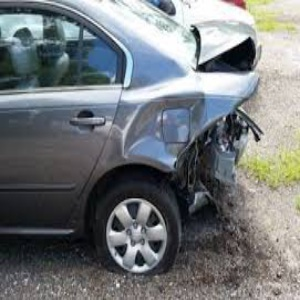bumper: (185, 108, 261, 226)
